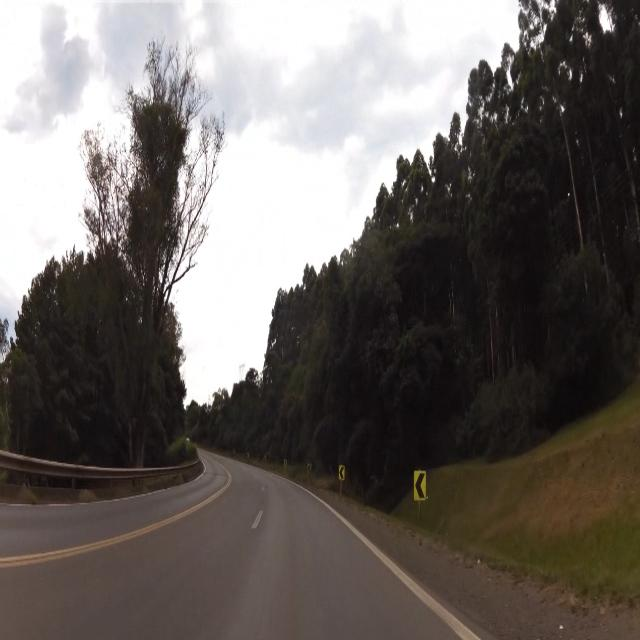Del: (412, 466, 427, 503)
